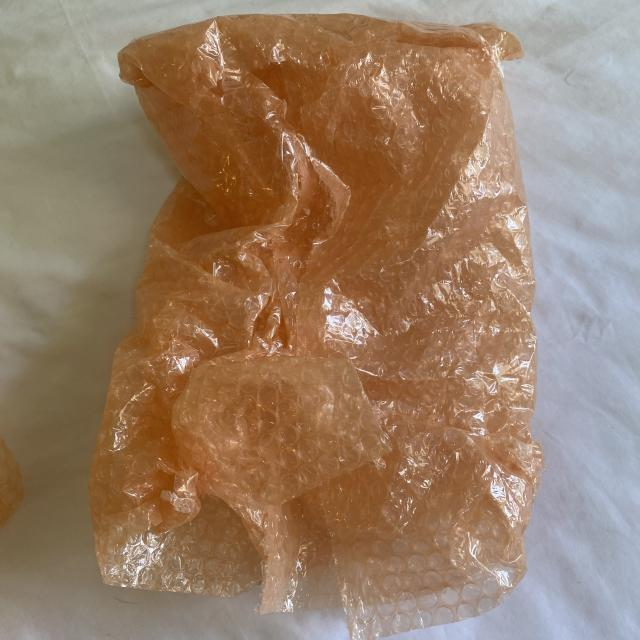Single-layer Plastic: (90, 15, 542, 640)
